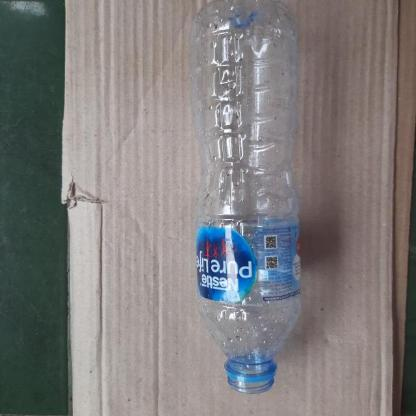Plastic Bottle: (186, 0, 300, 394)
